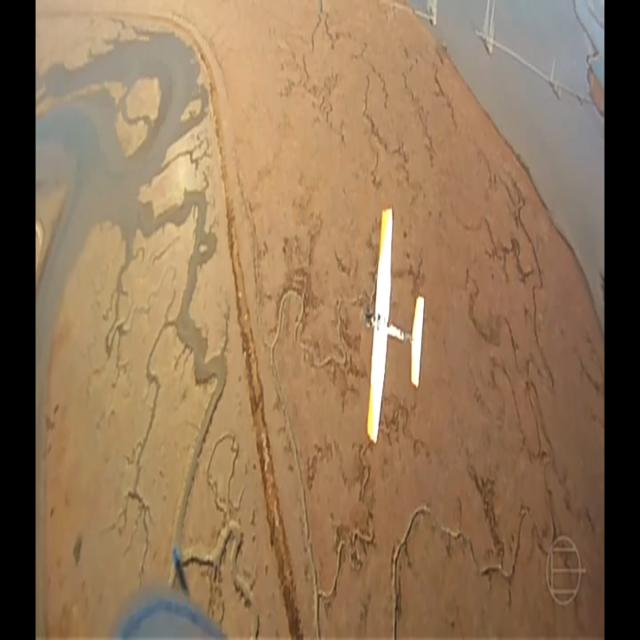iha: (359, 205, 419, 448)
